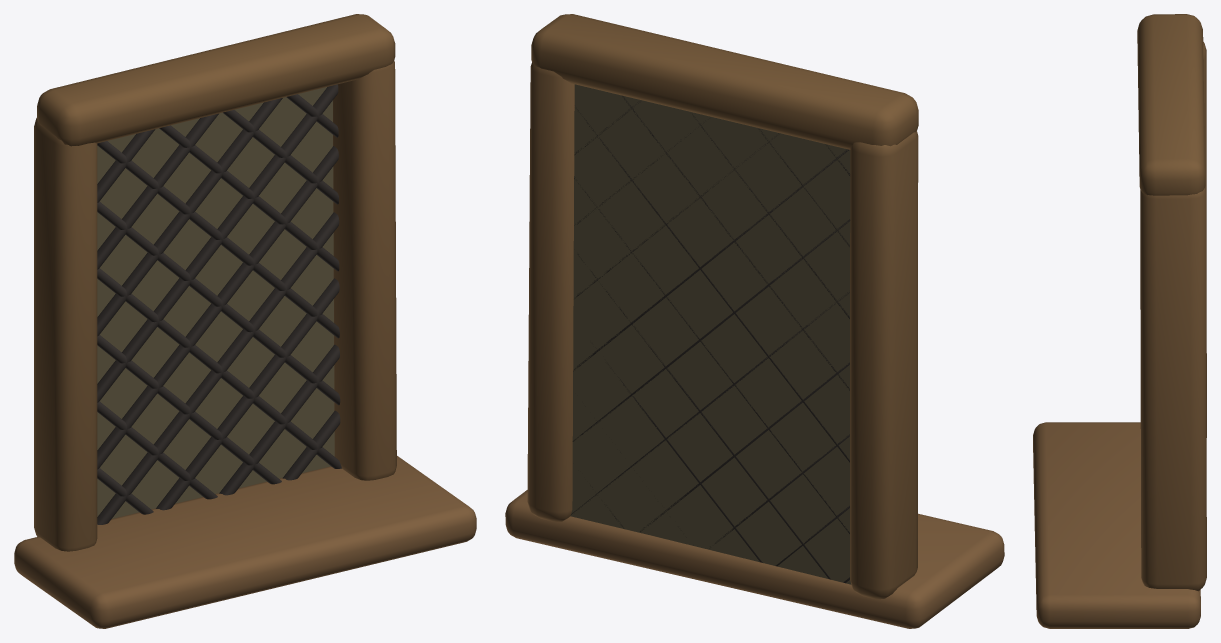
The model's file is tg_window_lattice.glb.
3 views of the same model, side by side, from view 1: azimuth 30°, elevation 25°; view 2: azimuth 150°, elevation 25°; view 3: azimuth 270°, elevation 25° (orthographic). The views are drawn at different scales.
Visible parts, largest first — view 1: window_tg_lattice, Glow; view 2: Glow, window_tg_lattice; view 3: window_tg_lattice.
Boxes of the visible parts, x1,y1,x2,y2 form: window_tg_lattice: (14,14,476,628); Glow: (97,87,334,518); Glow: (570,84,851,584); window_tg_lattice: (505,14,1004,628); window_tg_lattice: (1033,14,1206,628).
Size of the model in its own units: 1.04 by 1.23 by 0.4234.
